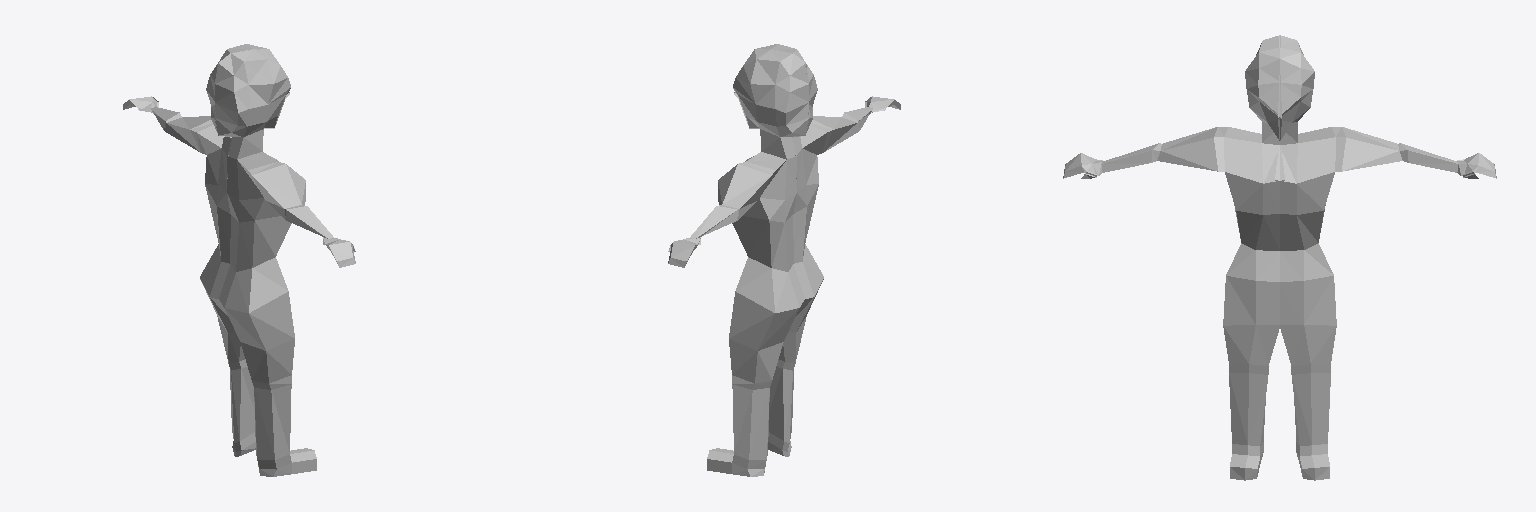
Rendered from modelGame.obj.
3 renders of one model, left to right at view 1: azimuth 30°, elevation 25°; view 2: azimuth 150°, elevation 25°; view 3: azimuth 270°, elevation 25°, orthographic.
Parts seen in each view (by area): view 1: Cube; view 2: Cube; view 3: Cube.
Part boxes in pixels (left/top/right/bottom): Cube: left=123, top=44, right=355, bottom=476; Cube: left=668, top=44, right=900, bottom=476; Cube: left=1063, top=35, right=1496, bottom=480.
Bounding box in the file's own units: 3.15 × 15.22 × 14.32.